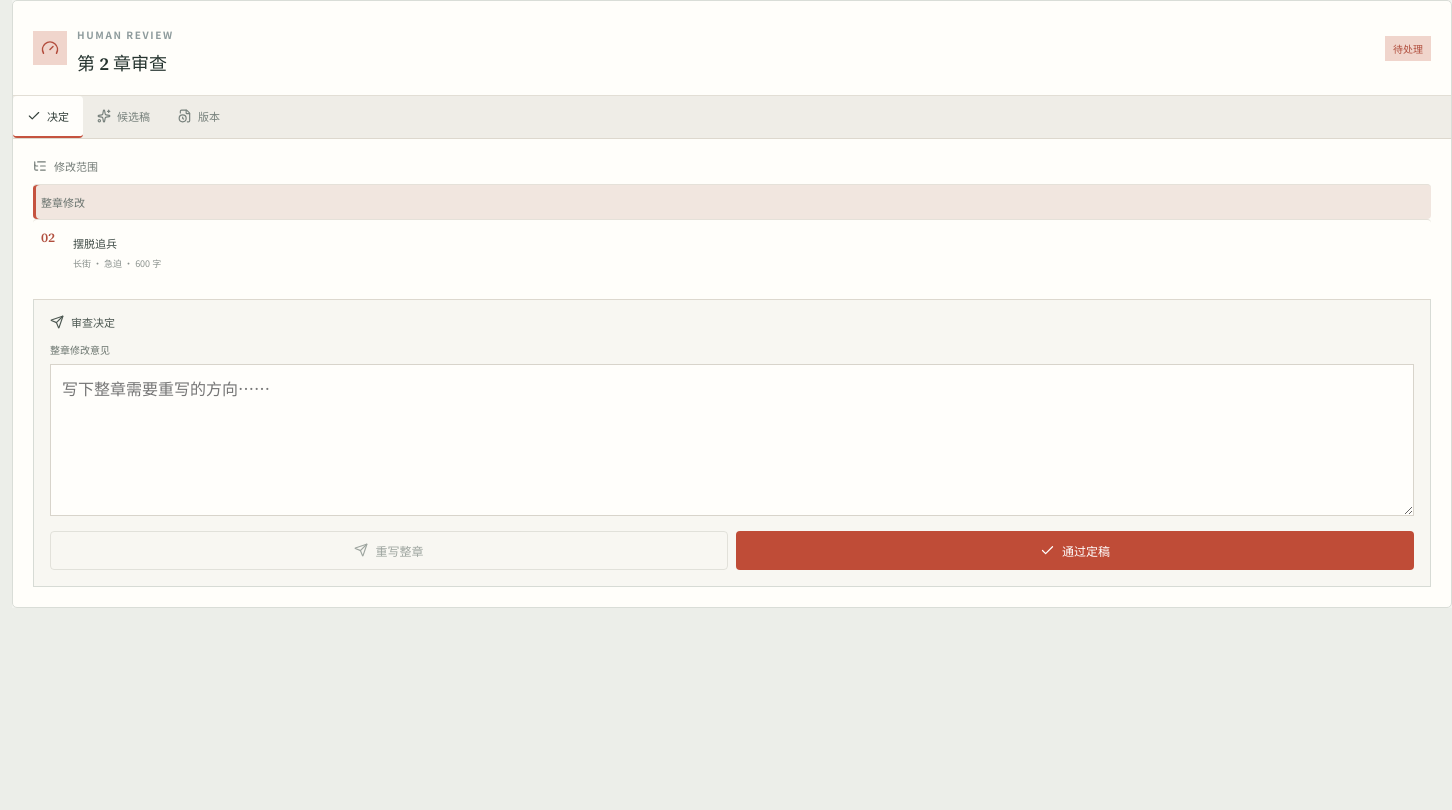
ReviewWorkspace › returns to the decision tab after a candidate replaces the draft
Click the button with aria-label "第 2 场": (95, 243) [33,219,1431,279]
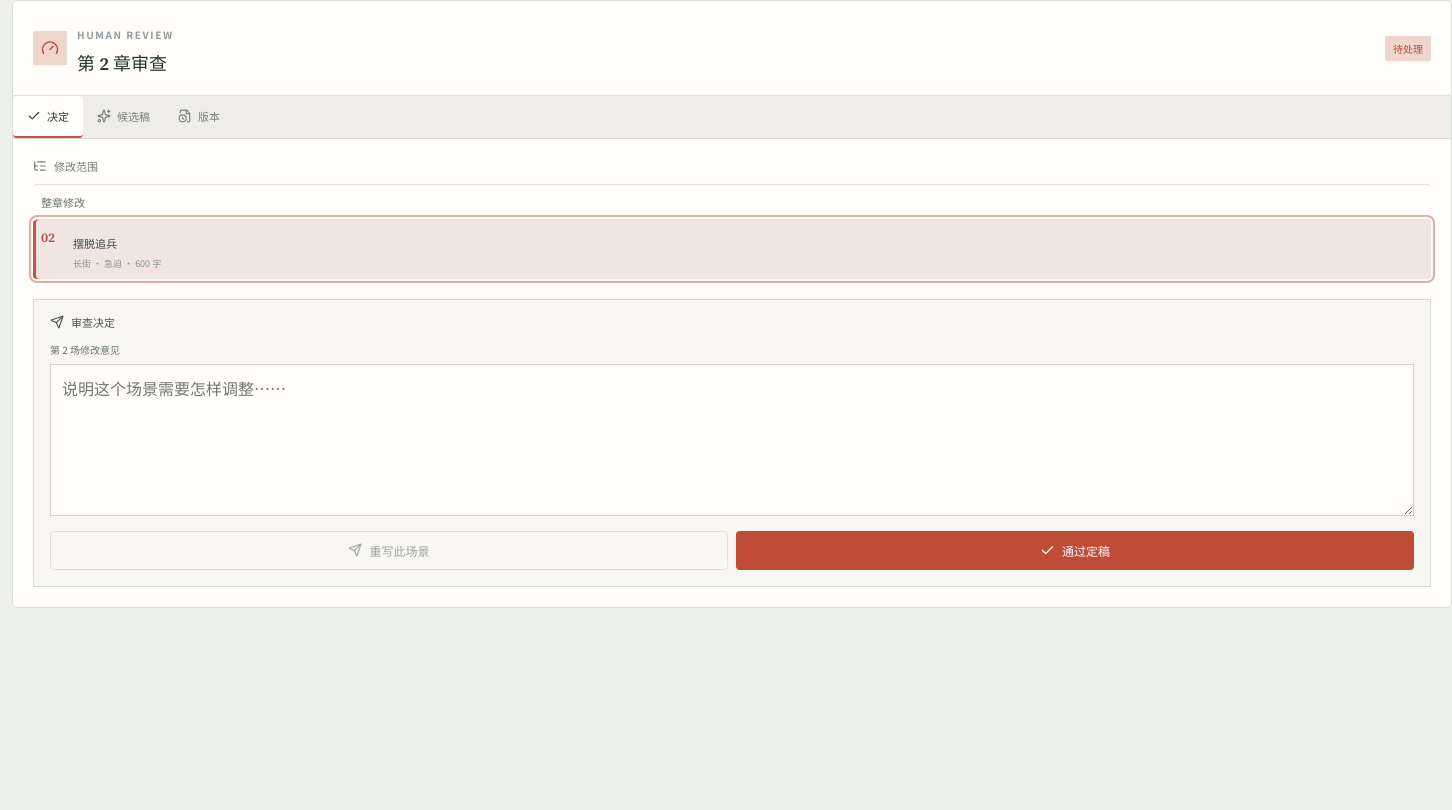
Click the tab "候选稿": (124, 117) [83,96,164,138]
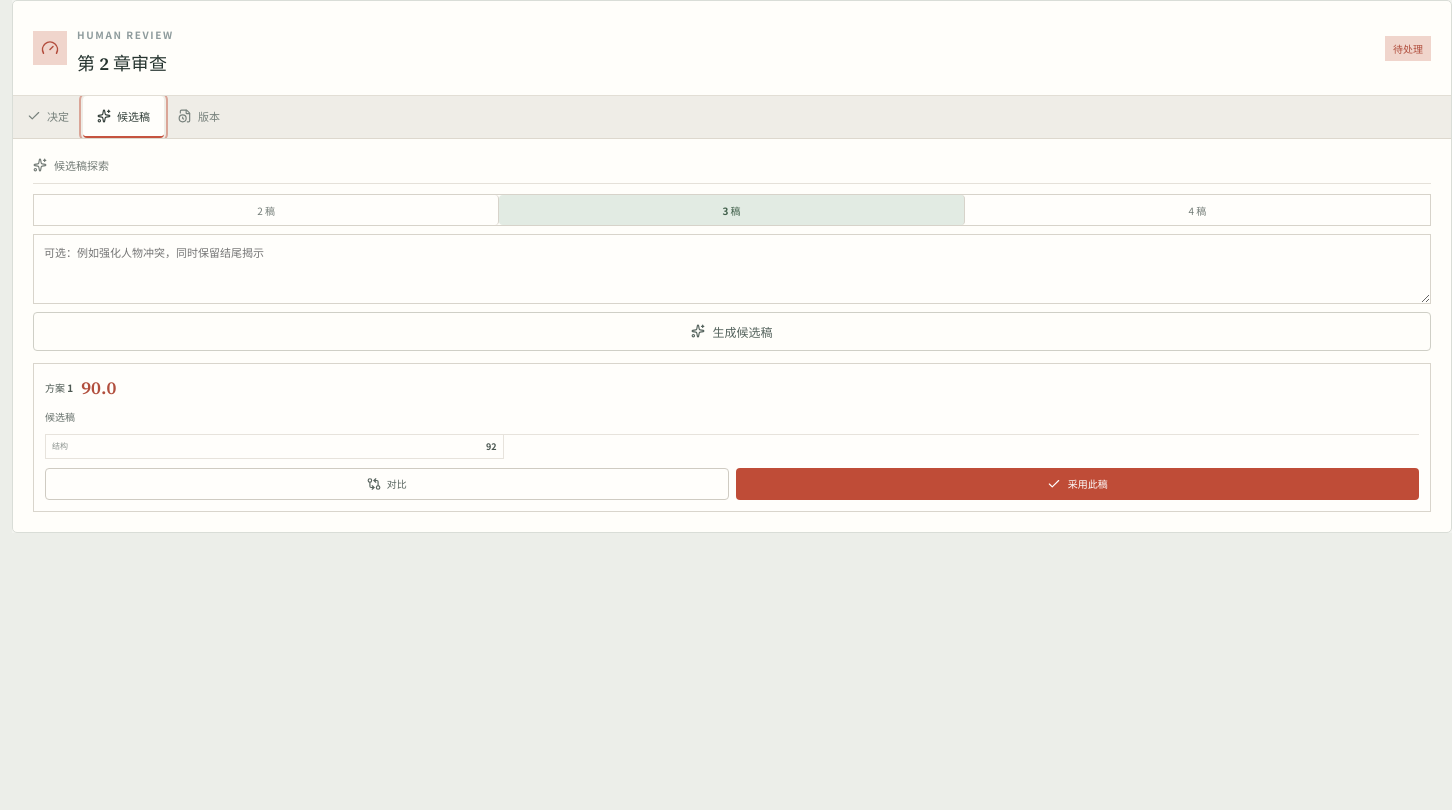
Click the button "采用此稿": (1077, 484) [736,468,1419,500]
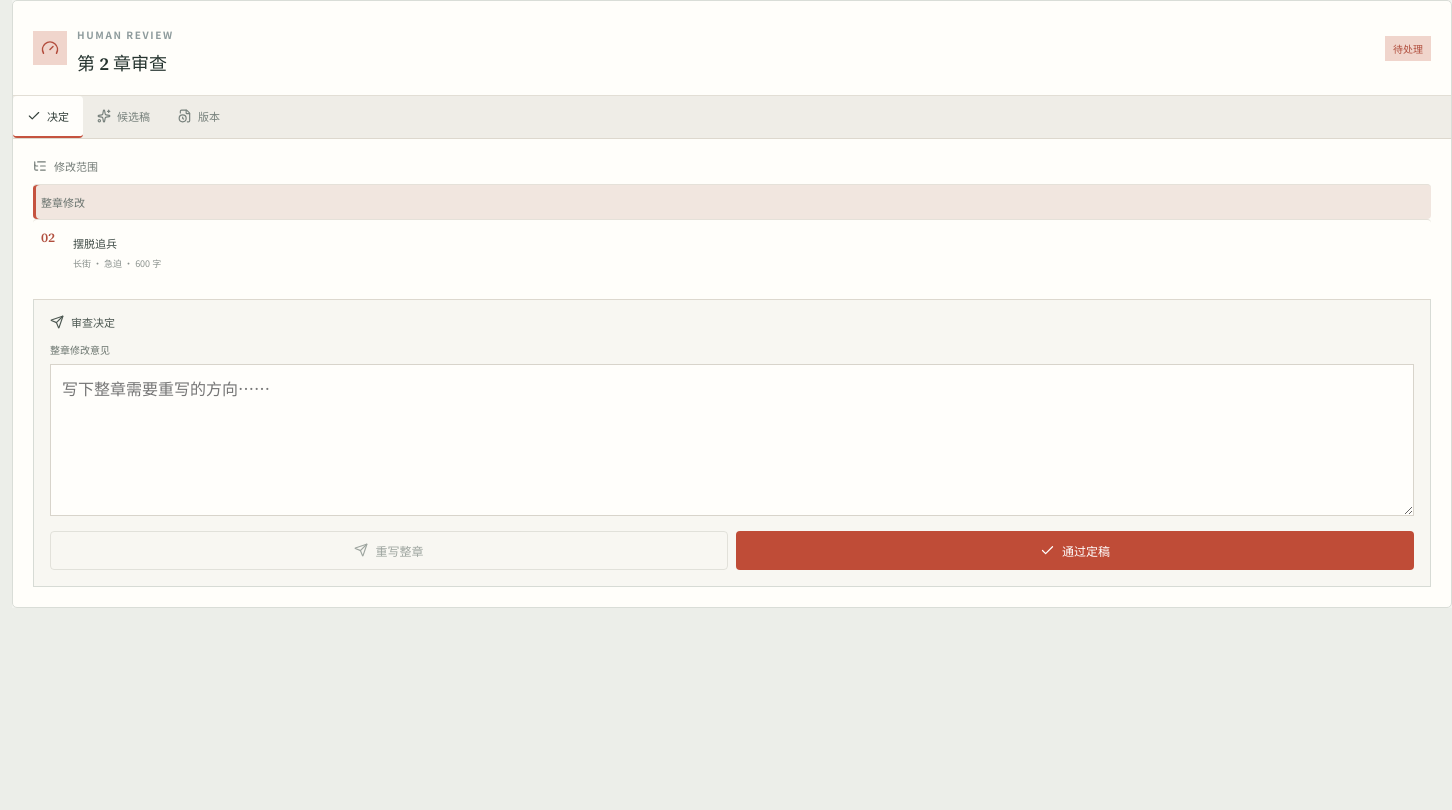
Expected: the text box labelled "整章修改意见" is shown, [50,364,1414,516]
